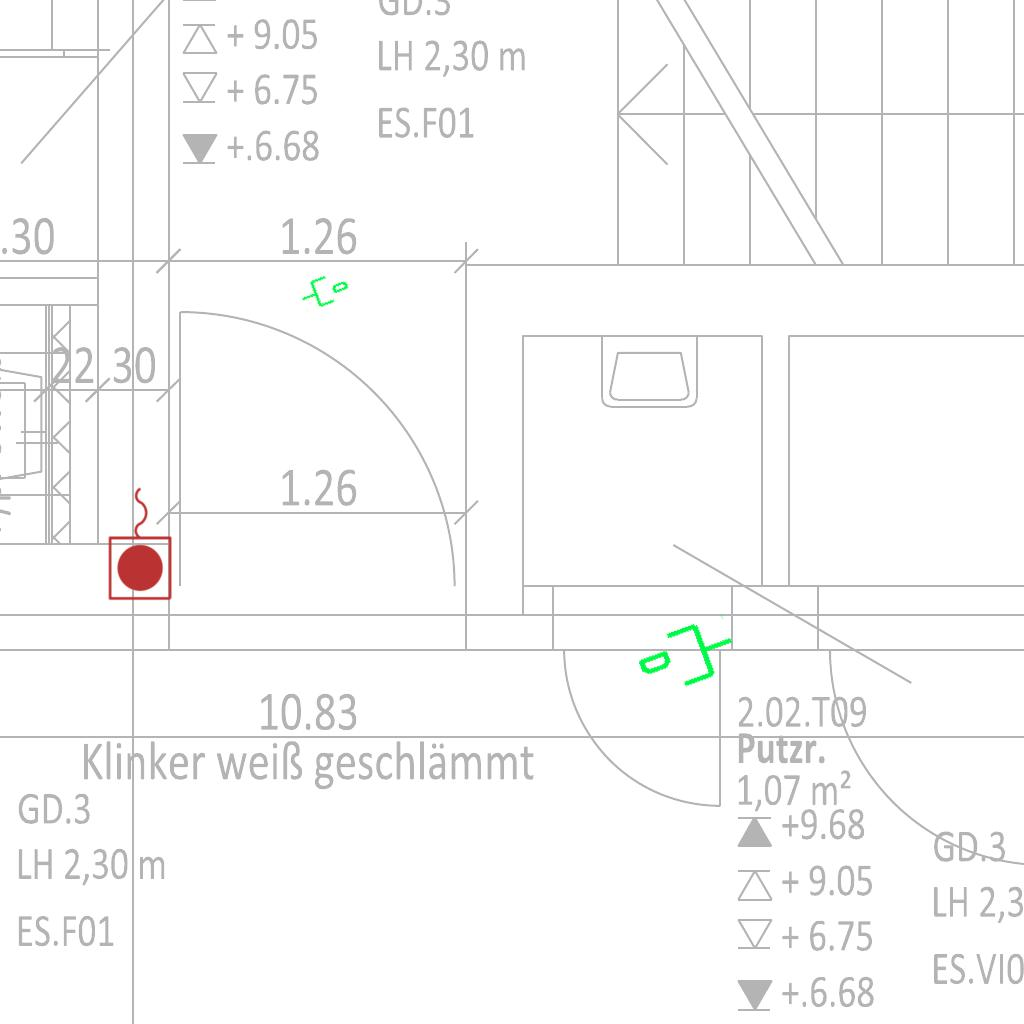Datenanschluss_einfach: (628, 608, 747, 708), (294, 265, 354, 315)
Zugtaster: (105, 482, 177, 604)
